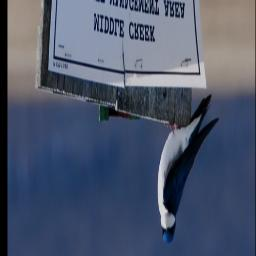Swallow: (156, 95, 218, 247)
